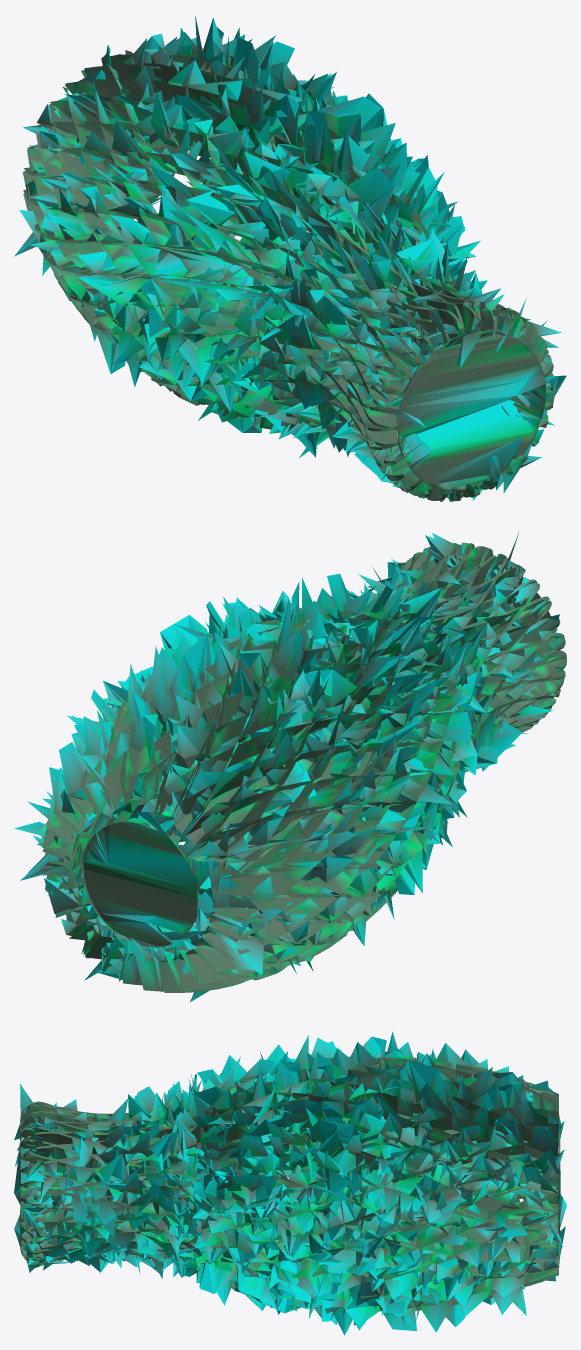
The model's file is lamp_shade_10_final200.obj.
3 renders of one model, top to bottom at view 1: azimuth 30°, elevation 25°; view 2: azimuth 150°, elevation 25°; view 3: azimuth 270°, elevation 25°, orthographic. The views are drawn at different scales.
Size of the model in its own units: 0.9965 by 0.9997 by 1.84.
